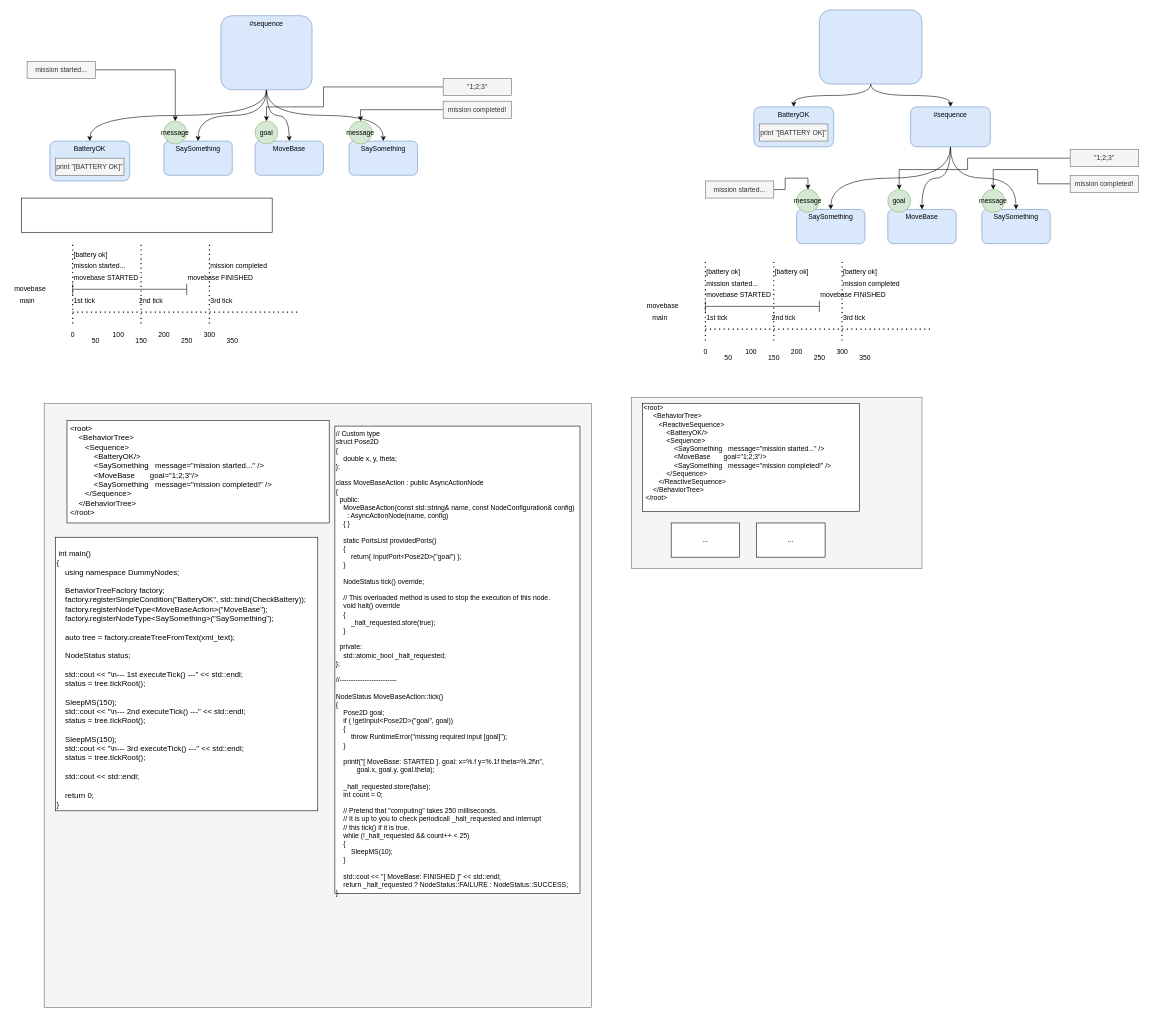
This 1149x1017 diagram has some shape labels left out. Here are the shapes that lost their labels. From the top down, the centre of each, then its label:
the point at 870,46: #reactivesequence
the point at 146,215: CheckBattery // see tut 1 SaySomething // see tut2 MoveBase // see below
